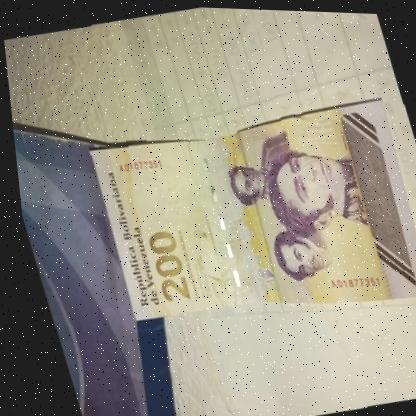two_hundred-front-vef: (75, 86, 416, 349)
